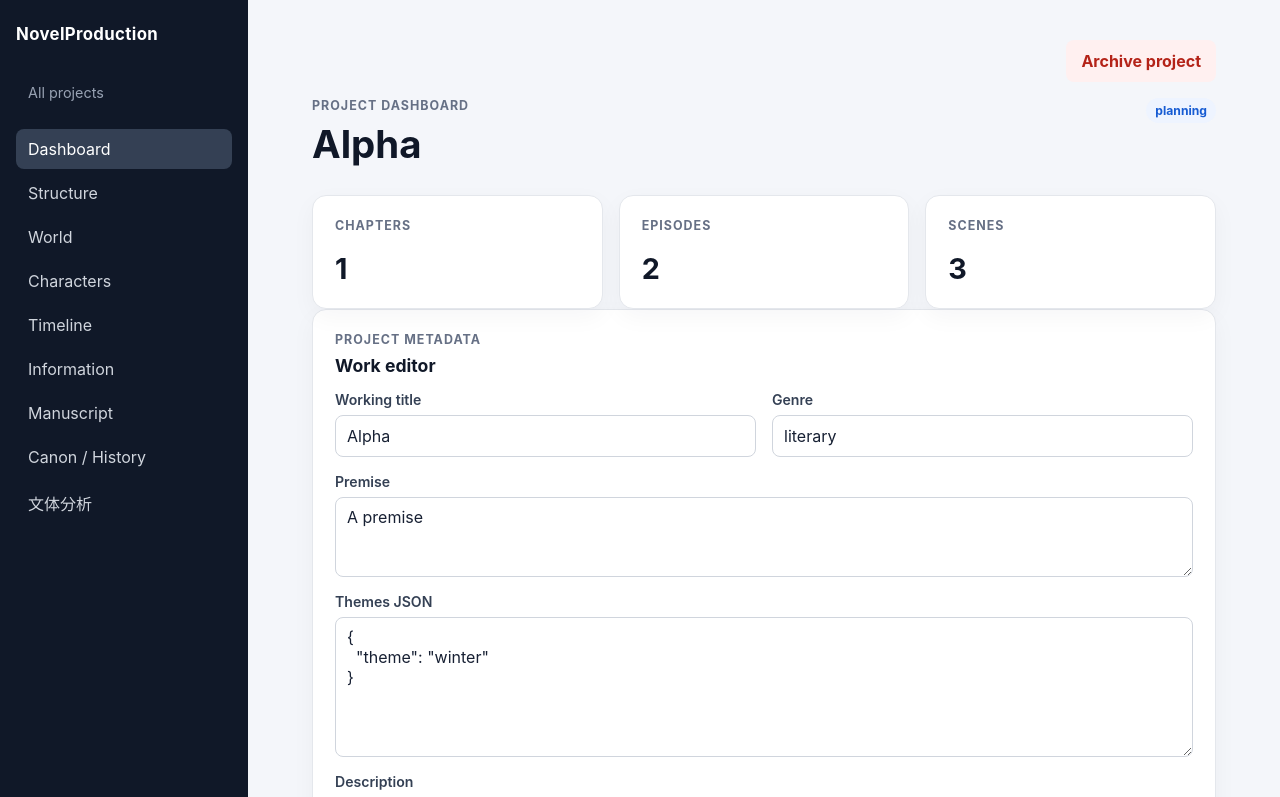
it: Work editor › refetches latest read-only data when conflict details omit current_resource
Replace the text in the field labelled "Working title" with "My local edit" at (546, 436), box [335,415,756,457]
(page scrolled)
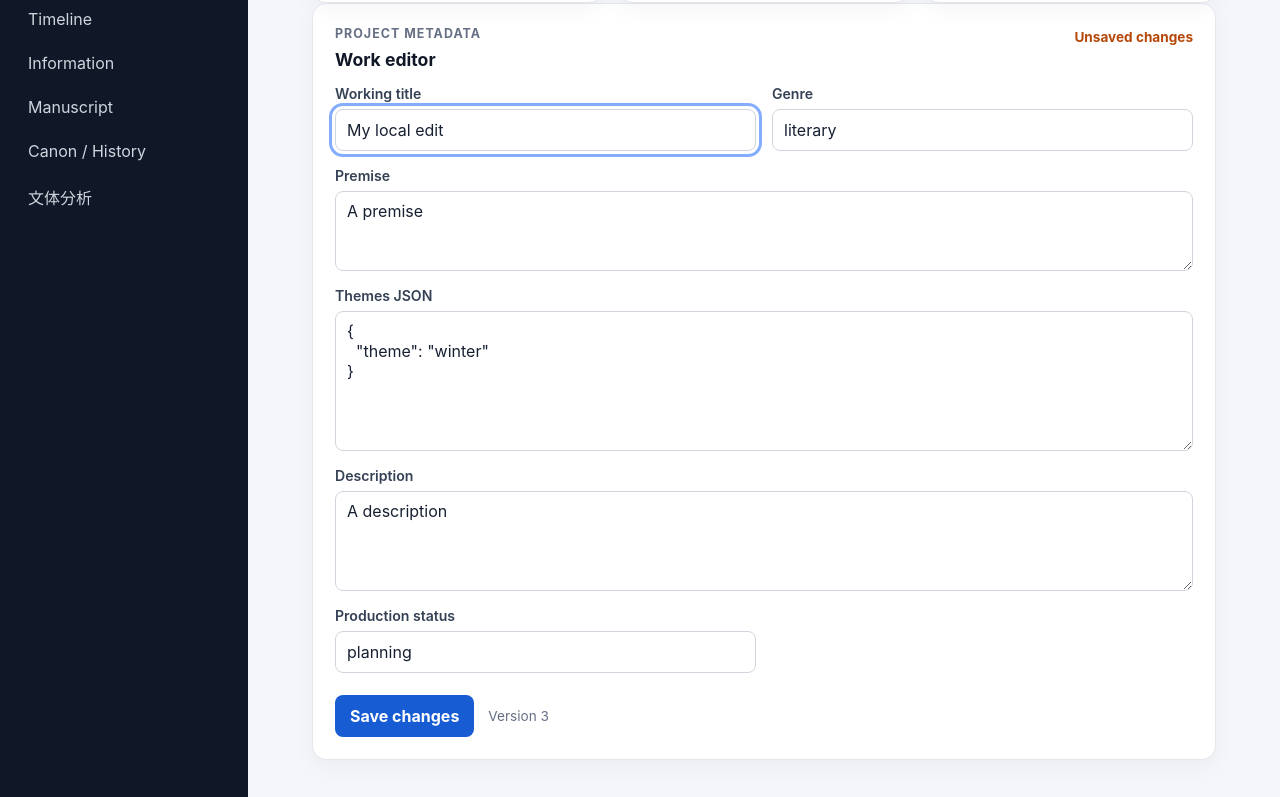
Click the button "Save changes" at (405, 716), box [335,695,474,737]
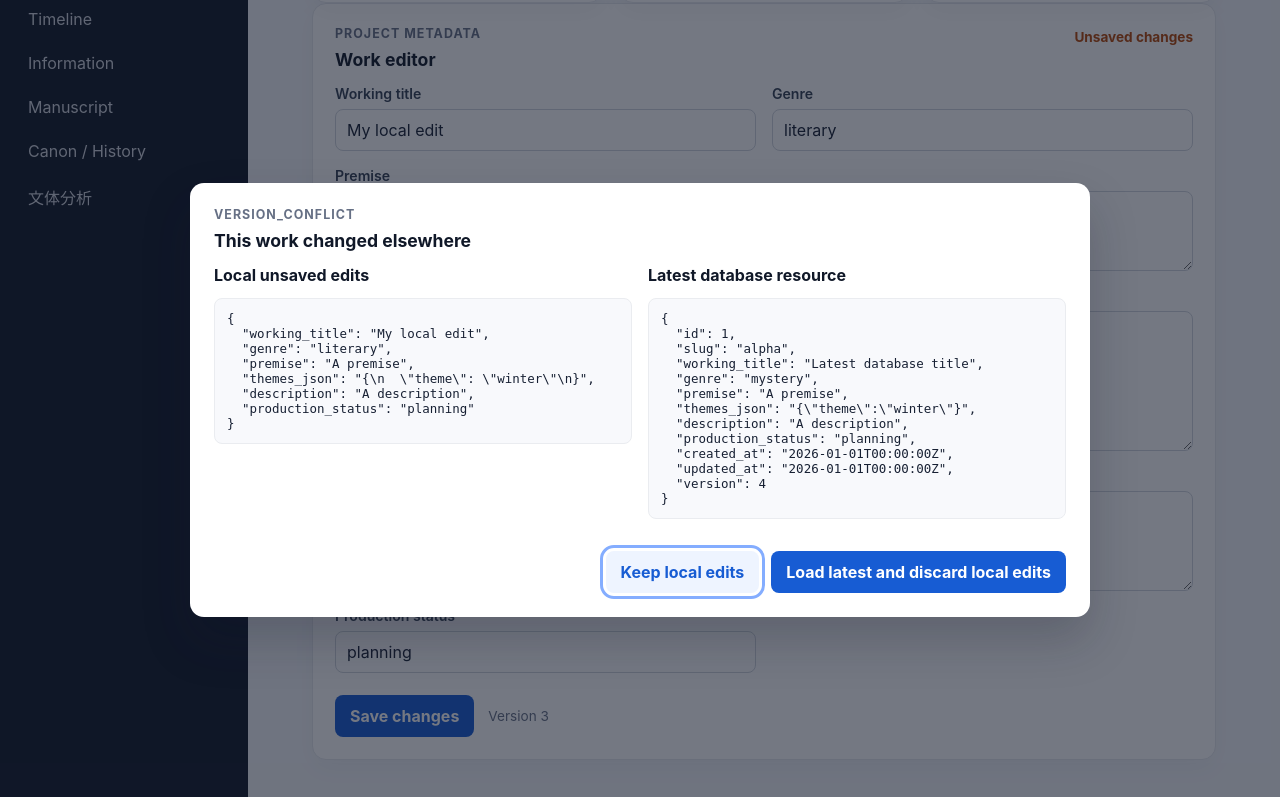
Expected: the text "Latest database title" is shown, [661,311,984,506]
